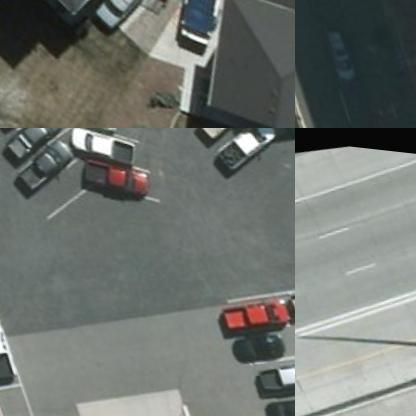boat: (148, 0, 258, 51)
car: (0, 129, 76, 191), (75, 146, 152, 207), (4, 133, 80, 194), (205, 284, 282, 332), (304, 14, 356, 80), (62, 128, 140, 172), (203, 128, 282, 170), (80, 0, 156, 34), (242, 347, 294, 390), (0, 128, 68, 159), (242, 379, 294, 415), (233, 320, 282, 356), (278, 266, 294, 315), (0, 308, 9, 386)
